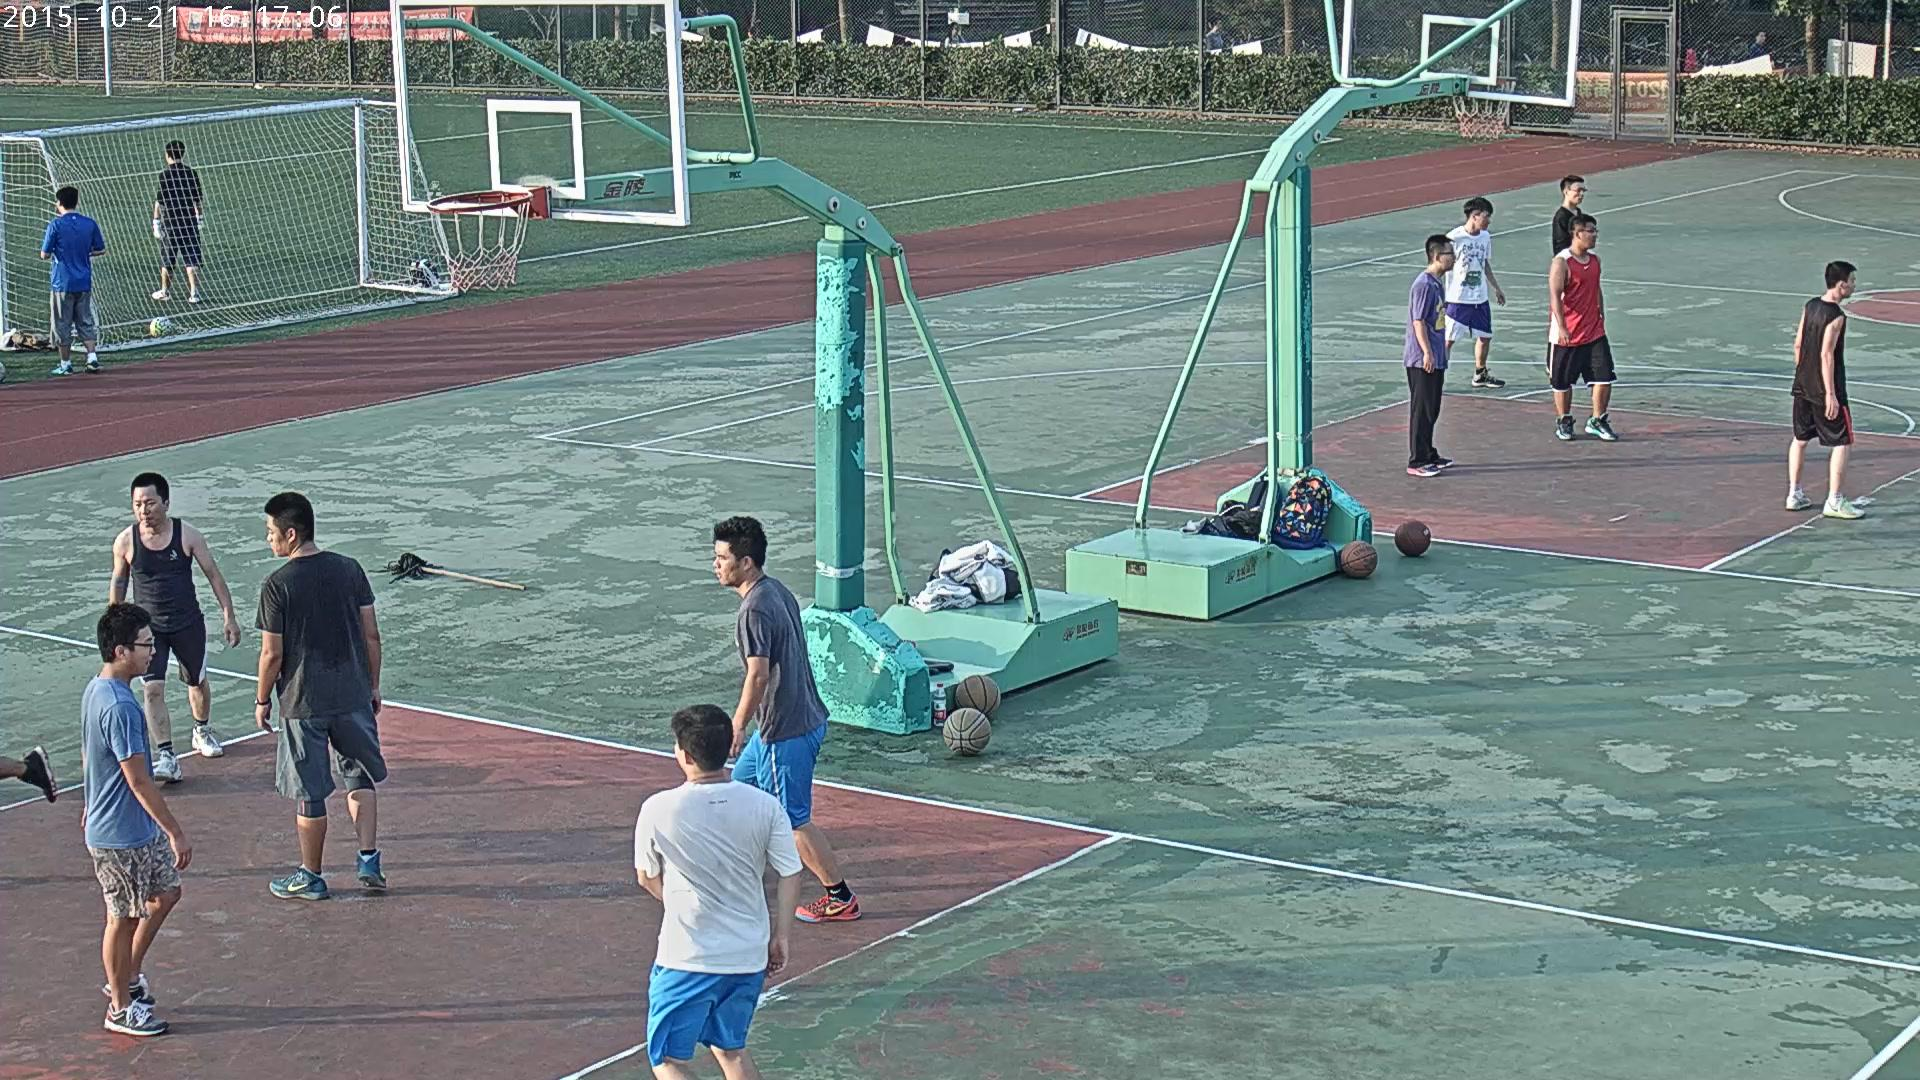face: (125, 626, 155, 674), (712, 541, 743, 584), (132, 485, 163, 526), (266, 515, 288, 555), (1580, 222, 1597, 248), (1439, 242, 1455, 269), (1568, 181, 1585, 203), (673, 737, 683, 768), (1844, 271, 1855, 297), (1475, 210, 1490, 229), (1215, 19, 1222, 31), (1757, 32, 1765, 42), (952, 25, 958, 35), (748, 31, 751, 37)
